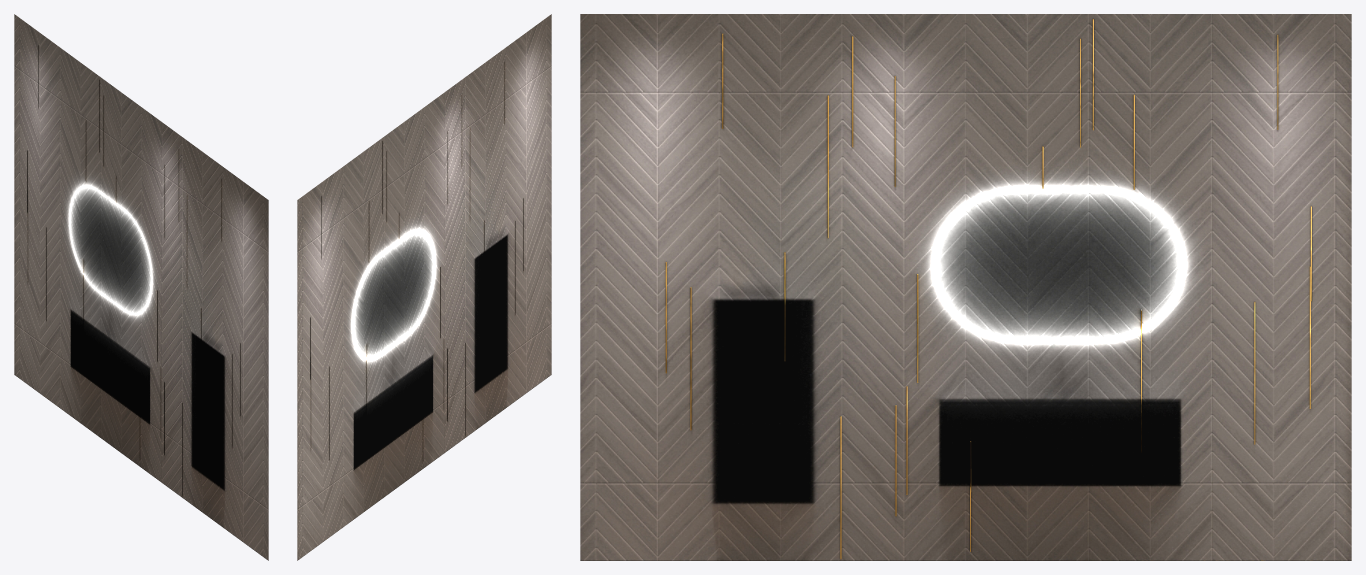
File: Vanity_wall_Default.glb
The picture shows the model from 3 angles, left to right: view 1: azimuth 30°, elevation 25°; view 2: azimuth 150°, elevation 25°; view 3: azimuth 270°, elevation 25°; orthographic projection. The views are drawn at different scales.
Visible parts, largest first — view 1: Vanity_wall_Default; view 2: Vanity_wall_Default; view 3: Vanity_wall_Default.
Boxes of the visible parts, box(x1,y1,x2,y2) form: Vanity_wall_Default: box(14, 14, 268, 560); Vanity_wall_Default: box(297, 14, 551, 560); Vanity_wall_Default: box(580, 14, 1351, 560).
Bounding box in the file's own units: 0.00572 × 2.45 × 3.13.
1 material, 1 textured.
